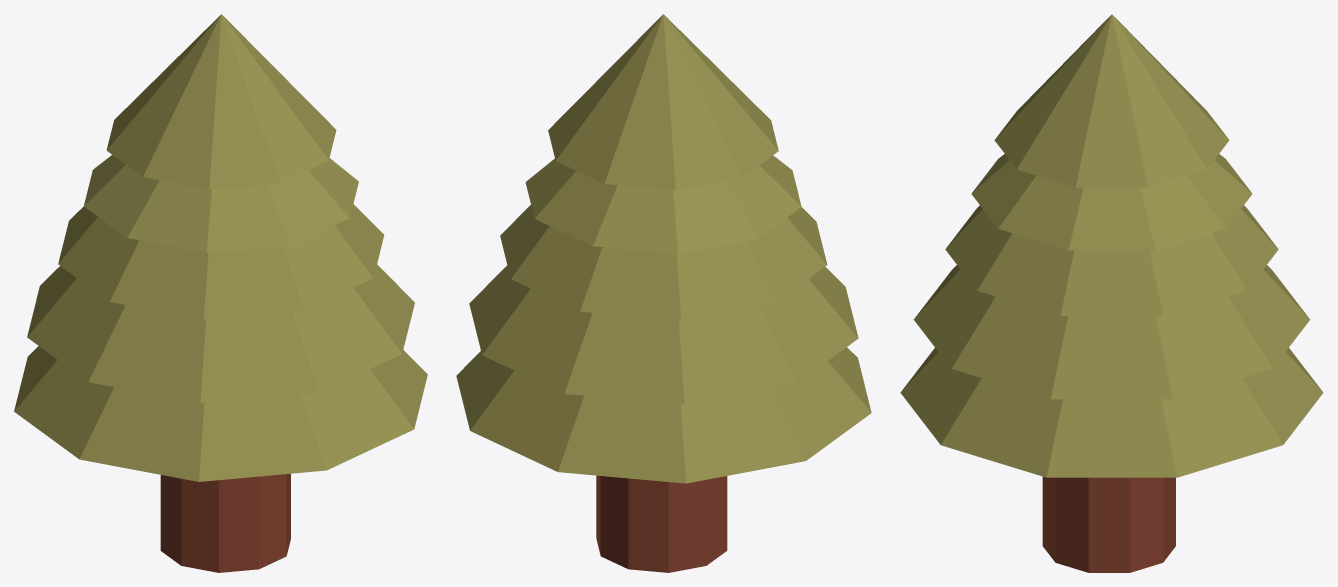
3 views of the same model, side by side, from view 1: azimuth 30°, elevation 25°; view 2: azimuth 150°, elevation 25°; view 3: azimuth 270°, elevation 25° (orthographic).
Parts seen in each view (by area): view 1: Cylinder; view 2: Cylinder; view 3: Cylinder.
Part boxes in pixels (left/top/right/bottom): Cylinder: left=14, top=14, right=427, bottom=572; Cylinder: left=456, top=14, right=871, bottom=572; Cylinder: left=900, top=14, right=1323, bottom=572.
Bounding box in the file's own units: 2.26 × 3.29 × 2.38.
